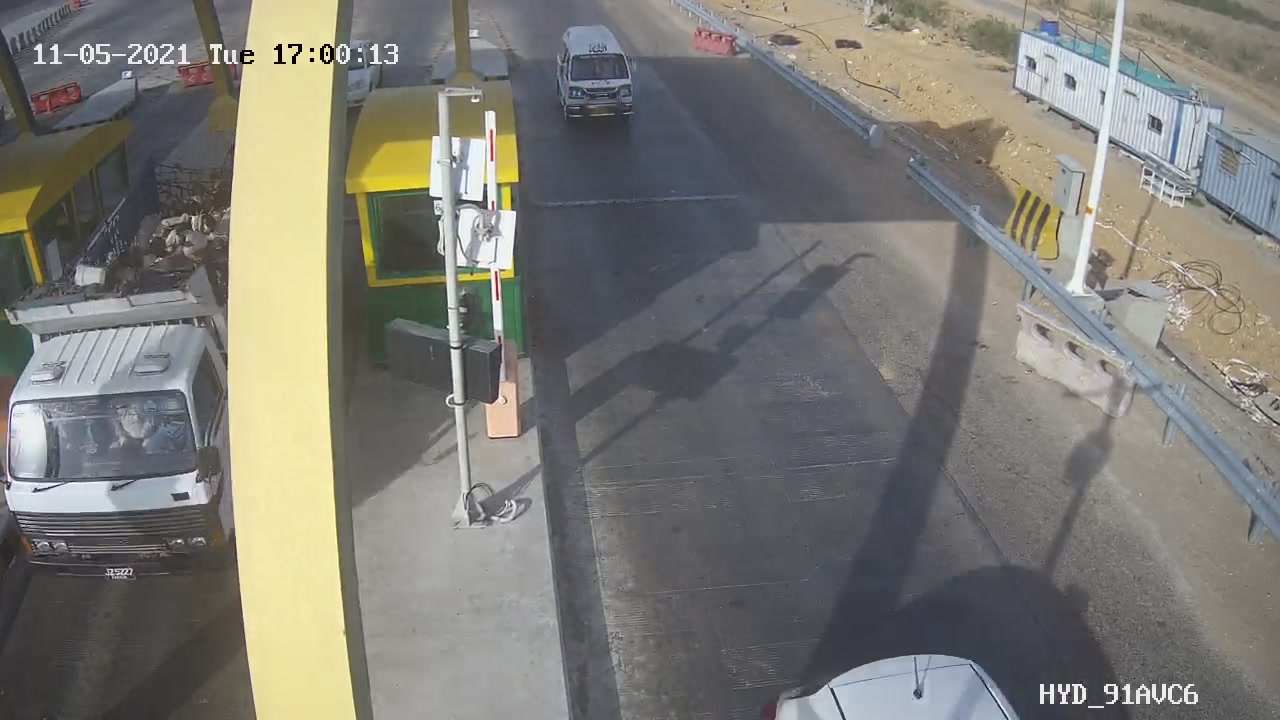F1: (539, 14, 656, 143)
